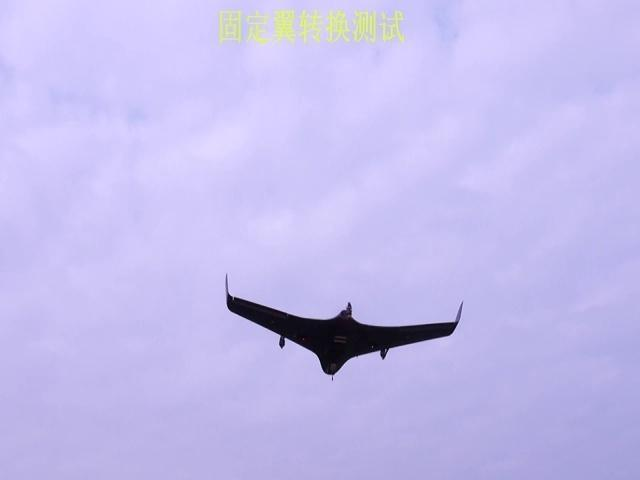Airplane: (225, 272, 463, 380)
